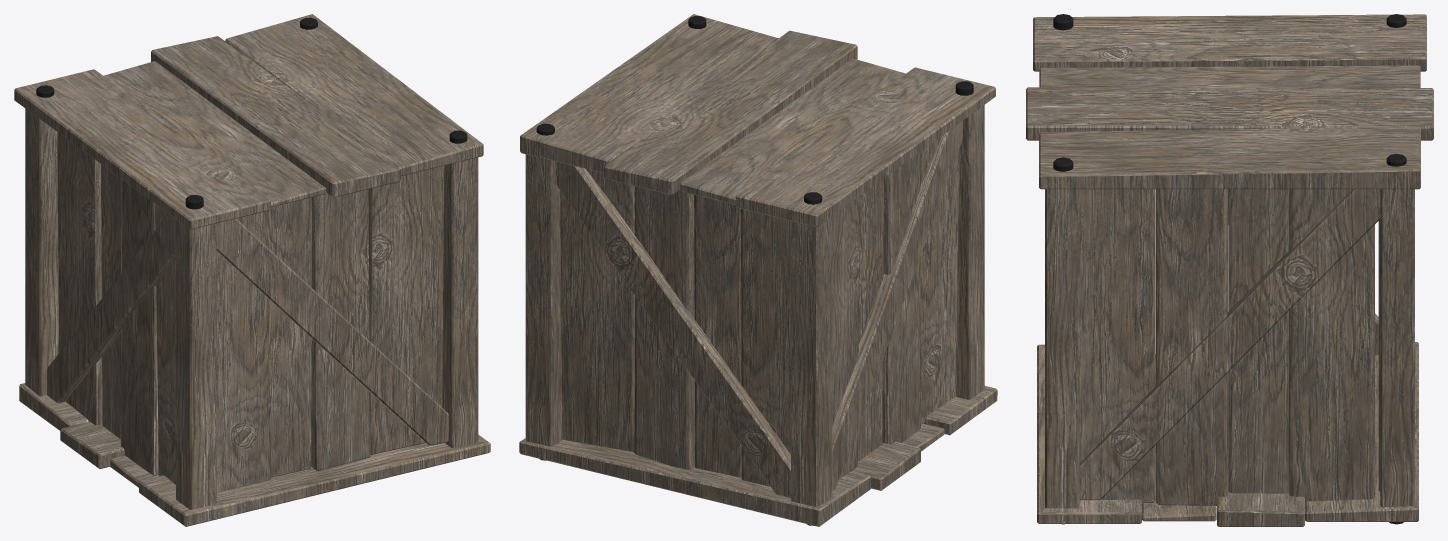
Rendered from WoodBox.fbx.
The picture shows the model from 3 angles, left to right: view 1: azimuth 30°, elevation 25°; view 2: azimuth 150°, elevation 25°; view 3: azimuth 270°, elevation 25°; orthographic projection. The views are drawn at different scales.
Parts seen in each view (by area): view 1: Cylinder; view 2: Cylinder; view 3: Cylinder.
Boxes of the visible parts, <box> form: Cylinder: <box>14,14,490,526</box>; Cylinder: <box>519,14,997,526</box>; Cylinder: <box>1026,14,1433,526</box>.
Bounding box in the file's own units: 232 × 228 × 232.
